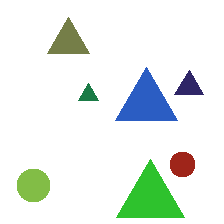circle: (17, 169, 49, 201), (170, 152, 194, 176)
triangle: (116, 159, 184, 217), (115, 67, 177, 120), (47, 17, 89, 53), (174, 70, 203, 94), (78, 83, 98, 100)
